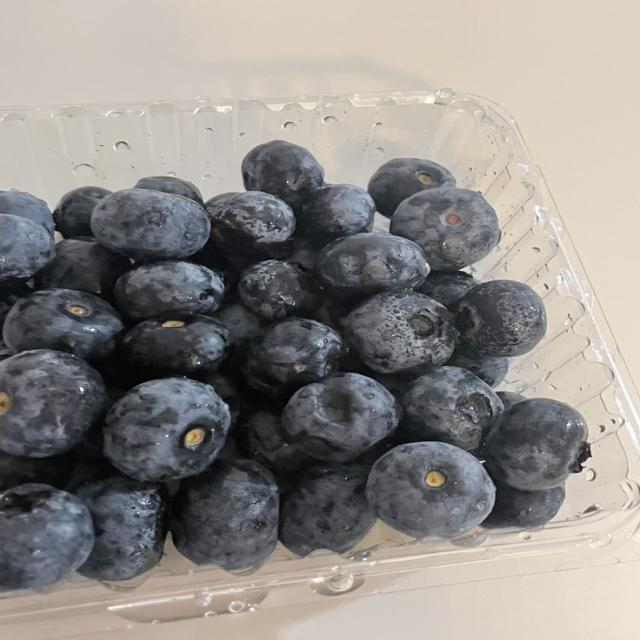blueberry: (104, 378, 230, 481), (367, 442, 494, 538), (171, 460, 279, 570), (0, 350, 106, 457), (282, 373, 399, 462), (0, 484, 93, 588), (486, 398, 590, 491), (77, 476, 168, 580), (343, 290, 457, 373), (399, 366, 502, 454), (391, 188, 500, 270), (280, 465, 375, 556), (92, 189, 210, 261), (3, 289, 123, 359), (243, 318, 342, 396), (316, 233, 429, 298), (120, 314, 230, 377), (455, 280, 546, 356), (114, 261, 224, 319), (36, 239, 131, 300), (207, 191, 295, 256), (242, 141, 323, 210), (240, 408, 317, 476), (368, 158, 455, 217), (238, 260, 319, 321), (297, 184, 375, 245), (0, 214, 54, 282), (483, 483, 565, 527), (54, 186, 112, 238), (0, 452, 73, 491), (189, 239, 239, 292), (416, 271, 479, 311), (214, 303, 265, 352), (0, 190, 54, 236), (447, 350, 509, 387), (201, 372, 242, 427), (135, 176, 203, 206), (0, 282, 33, 330), (311, 296, 353, 332), (284, 237, 318, 270), (205, 192, 241, 210), (497, 392, 526, 411), (0, 340, 11, 361)
